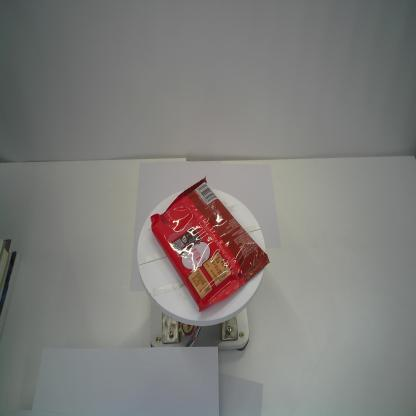Dessert: (150, 175, 270, 313)
